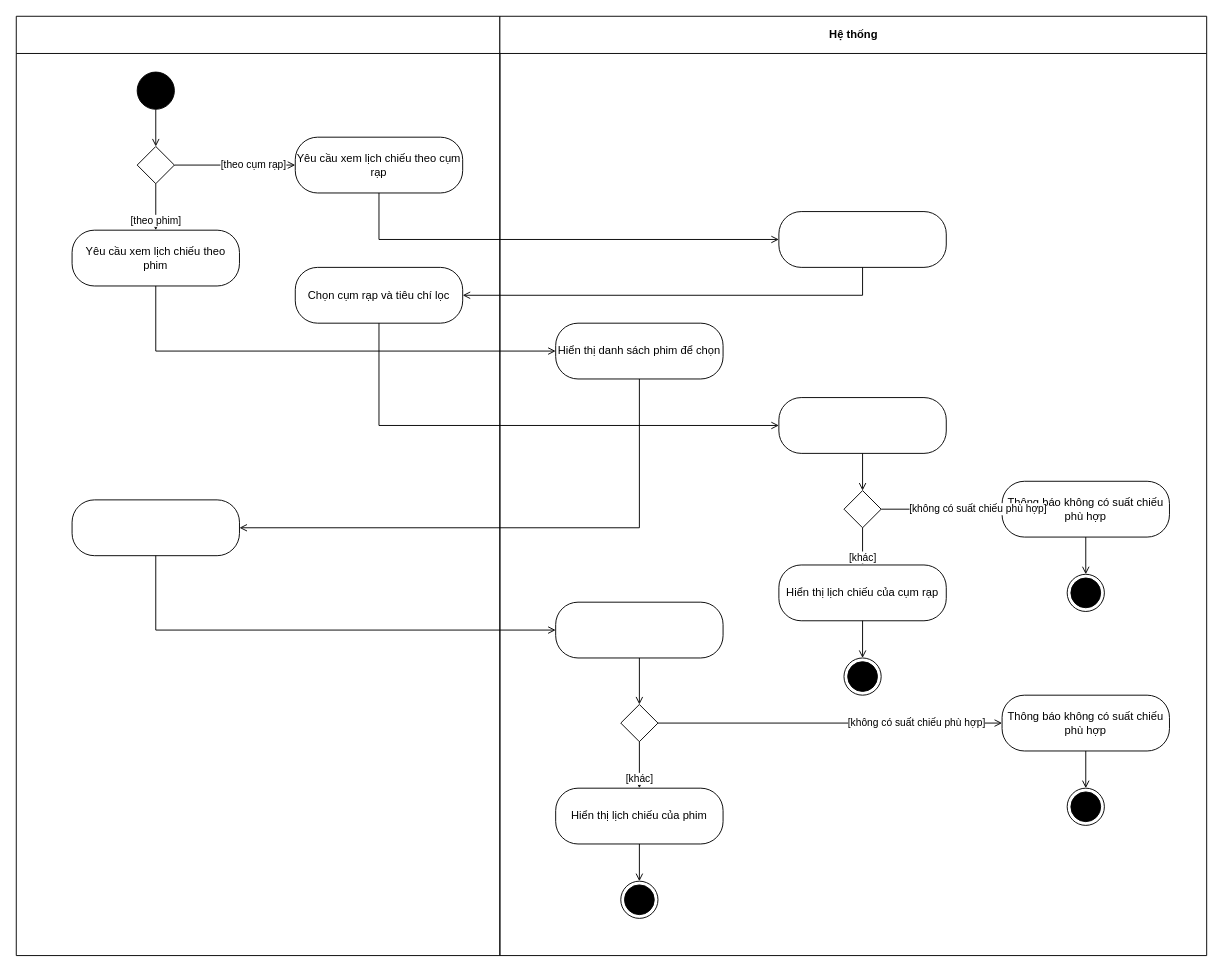
Some shapes in this 1223 by 972 pixel diagram are drawn without their labels. Here are the shapes that lost their labels. From the top down, the box of each, then its label:
(778, 211, 946, 267): Hiển thị danh sách cụm rạp
(778, 397, 946, 453): Xác định suất chiếu tại cụm rạp (BR-58)
(15, 15, 500, 956): Khách
(71, 499, 239, 556): Chọn phim và tiêu chí lọc
(555, 601, 723, 658): Xác định suất chiếu của phim (BR-58)
